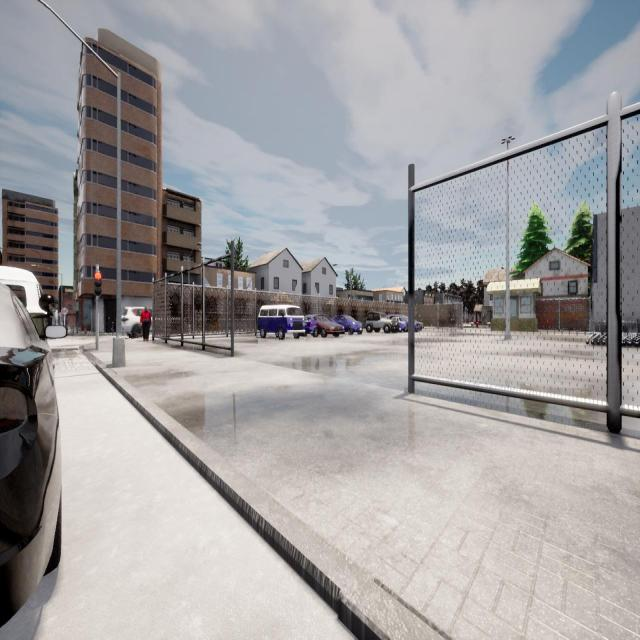Pedestrian: (140, 306, 151, 341)
Traffic_Signs: (62, 308, 68, 314), (59, 312, 62, 316)
Vehicle: (0, 279, 58, 622), (0, 267, 47, 342), (257, 305, 305, 339), (121, 307, 152, 337), (306, 314, 343, 337), (366, 312, 398, 332), (332, 315, 362, 335), (390, 314, 423, 332)
traffic_light: (93, 272, 103, 296)
